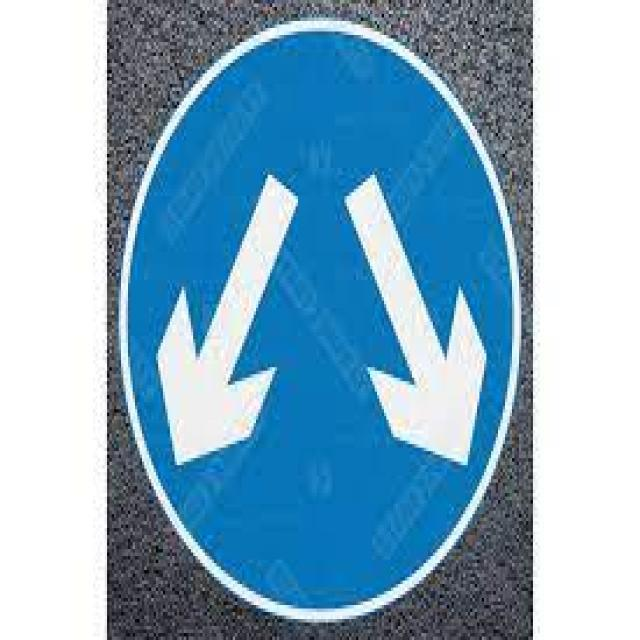pass either side: (126, 25, 516, 615)
